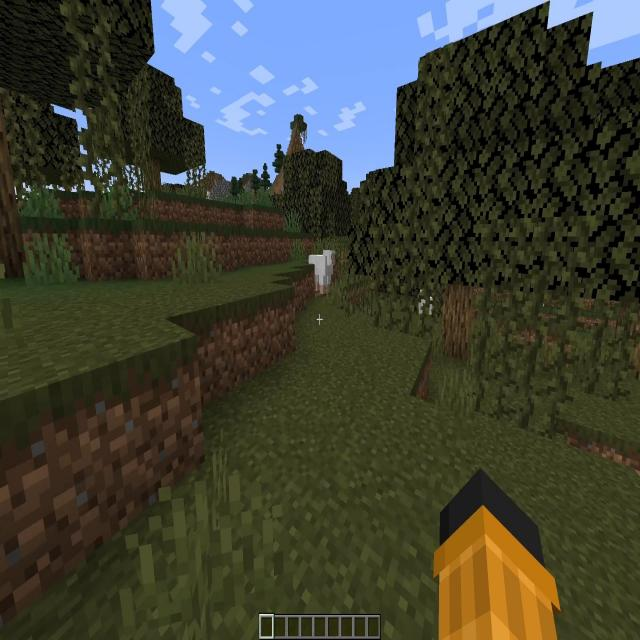Sheep: (310, 249, 333, 295)
